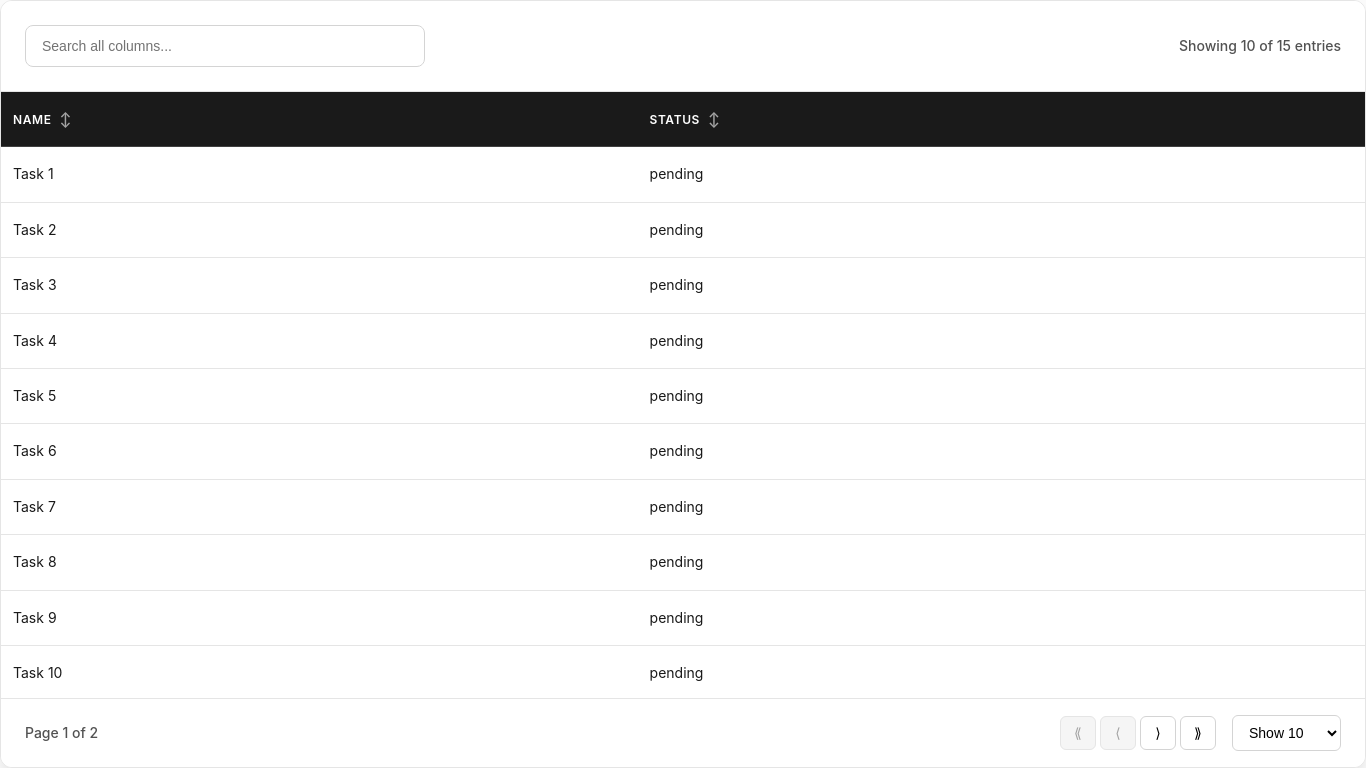
Scenario: DataTable › handles pagination button clicks
The width and height of the screenshot is (1366, 768).
Click the button "⟩".
click(1158, 733)  # box [1140,716,1176,750]
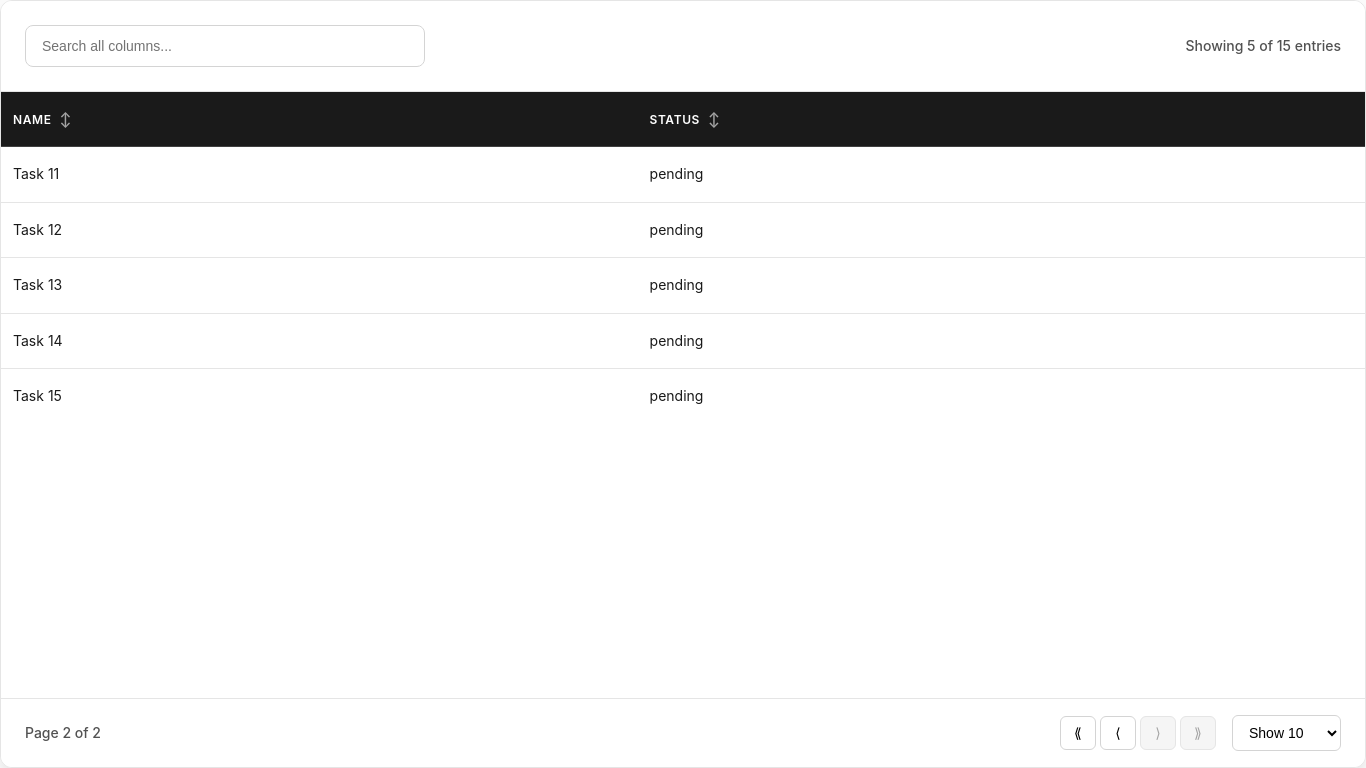
Expected: the text "Page 2 of 2" is shown, [25,724,101,741]
